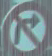Don't turn right: (3, 2, 51, 51)
